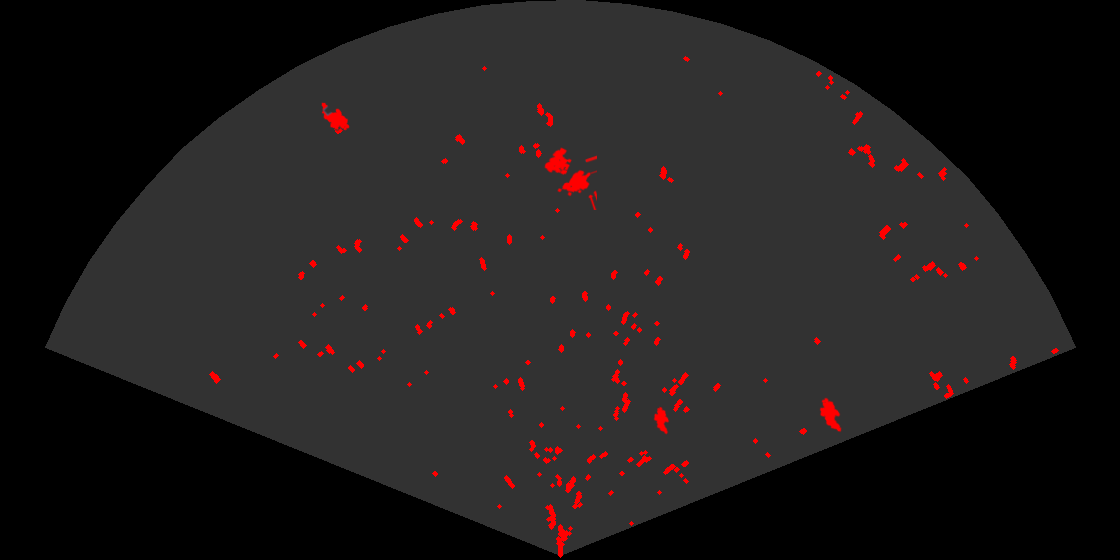AUV: (320, 101, 351, 132), (818, 396, 843, 434), (652, 405, 671, 436)
cage: (543, 146, 597, 210)
